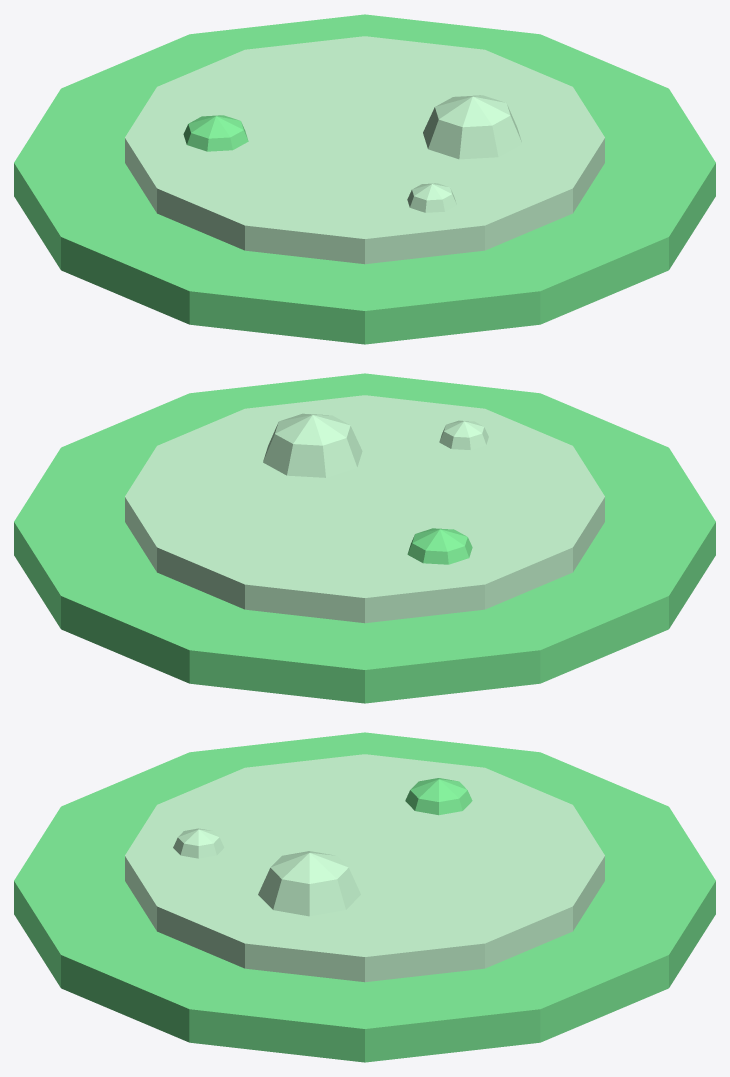
File: carbon-pool.obj
3 views of the same model, one above another, from view 1: azimuth 30°, elevation 25°; view 2: azimuth 150°, elevation 25°; view 3: azimuth 270°, elevation 25° (orthographic).
Parts seen in each view (by area): view 1: carbon-pool; view 2: carbon-pool; view 3: carbon-pool.
Part boxes in pixels (box(x1,y1,x2,y2)): carbon-pool: box(14, 14, 715, 344); carbon-pool: box(14, 373, 715, 703); carbon-pool: box(14, 732, 715, 1062).
Size of the model in its own units: 3.8 by 0.6 by 3.8.
